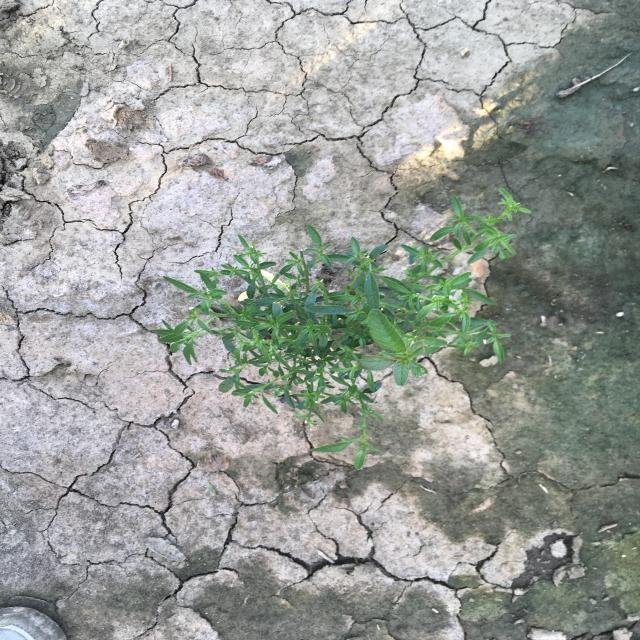Waterhemp: (147, 187, 535, 471)
